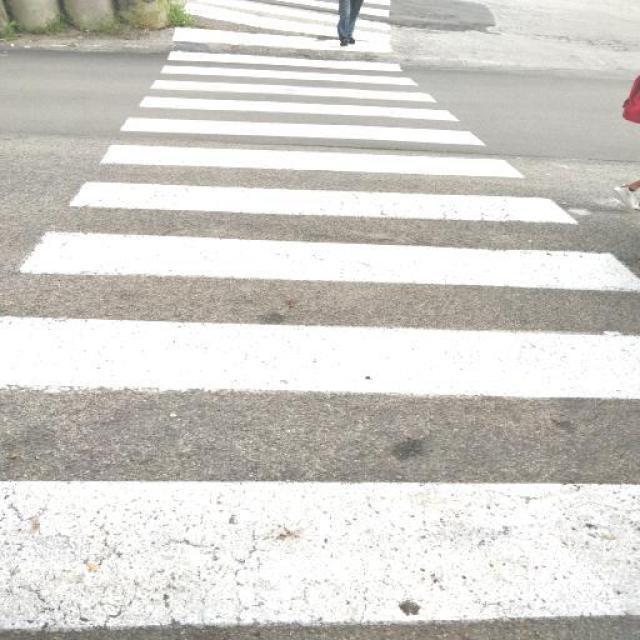crosswalk: (0, 0, 640, 638)
